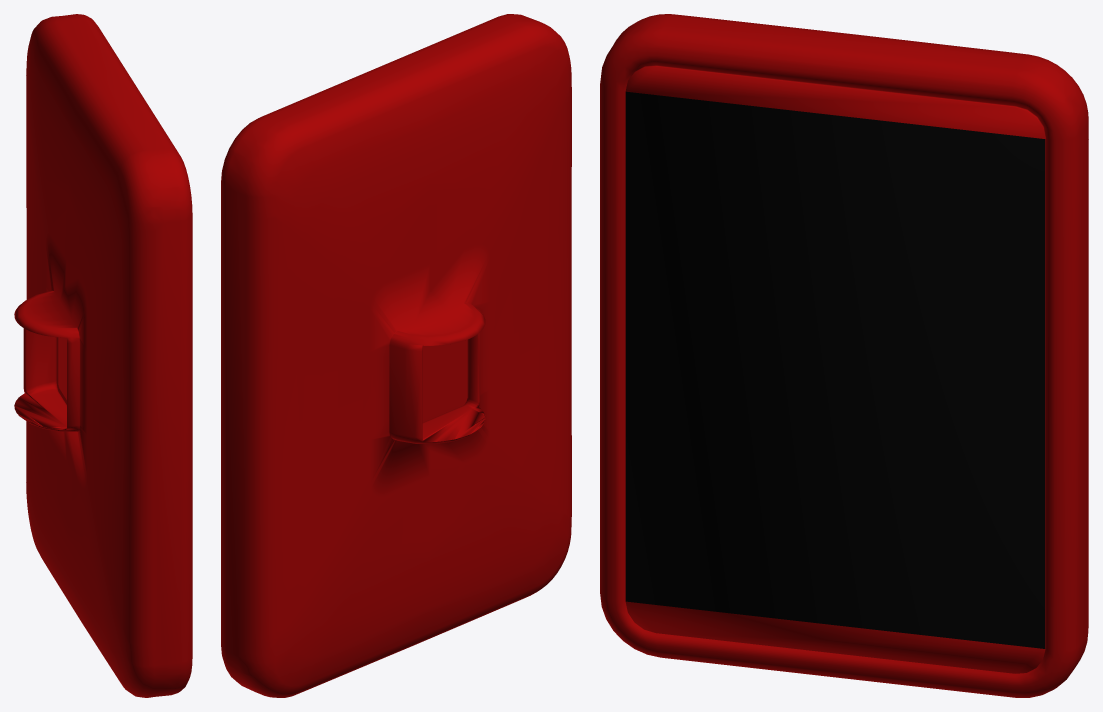
3 renders of one model, left to right at view 1: azimuth 30°, elevation 25°; view 2: azimuth 150°, elevation 25°; view 3: azimuth 270°, elevation 25°, orthographic. The views are drawn at different scales.
Parts seen in each view (by area): view 1: H1; view 2: H1; view 3: H1.
Part boxes in pixels (x1=…): H1: x1=14, y1=14, x2=192, y2=697; H1: x1=221, y1=14, x2=571, y2=697; H1: x1=600, y1=14, x2=1088, y2=697.
Bounding box in the file's own units: 0.0796 × 0.1887 × 0.2675.
